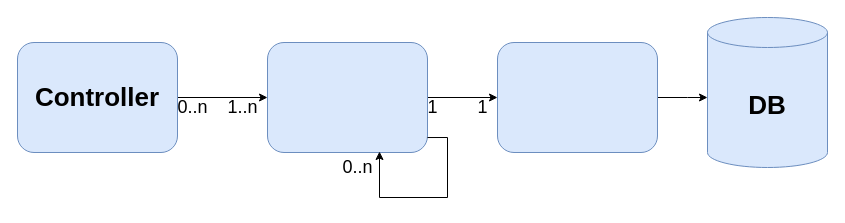
This 845x223 diagram has some shape labels left out. Each missing label, with the centre of its shape:
"Repository" goes at point (577, 97).
"Service" goes at point (347, 97).
